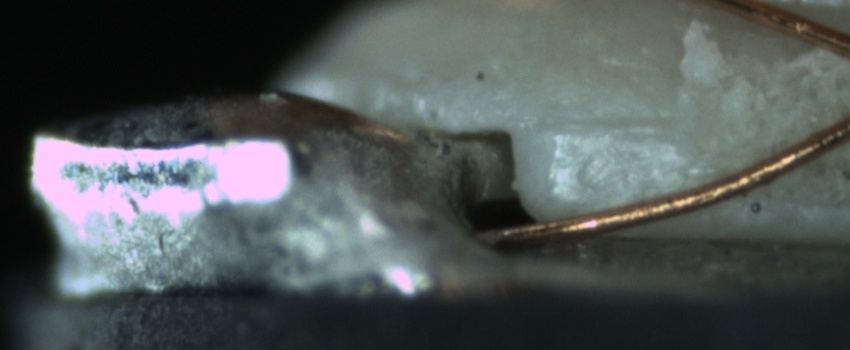DL: (541, 92, 676, 160)
